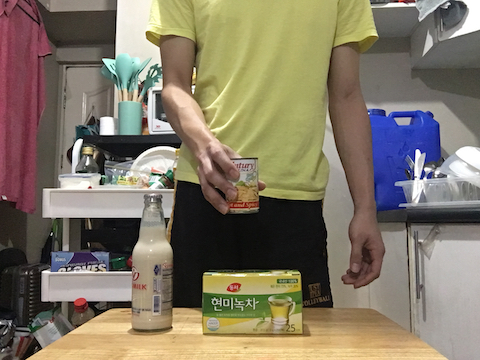bottle: (126, 189, 178, 335)
box: (198, 267, 305, 338)
can: (224, 153, 265, 216)
grab: (196, 144, 242, 215)
